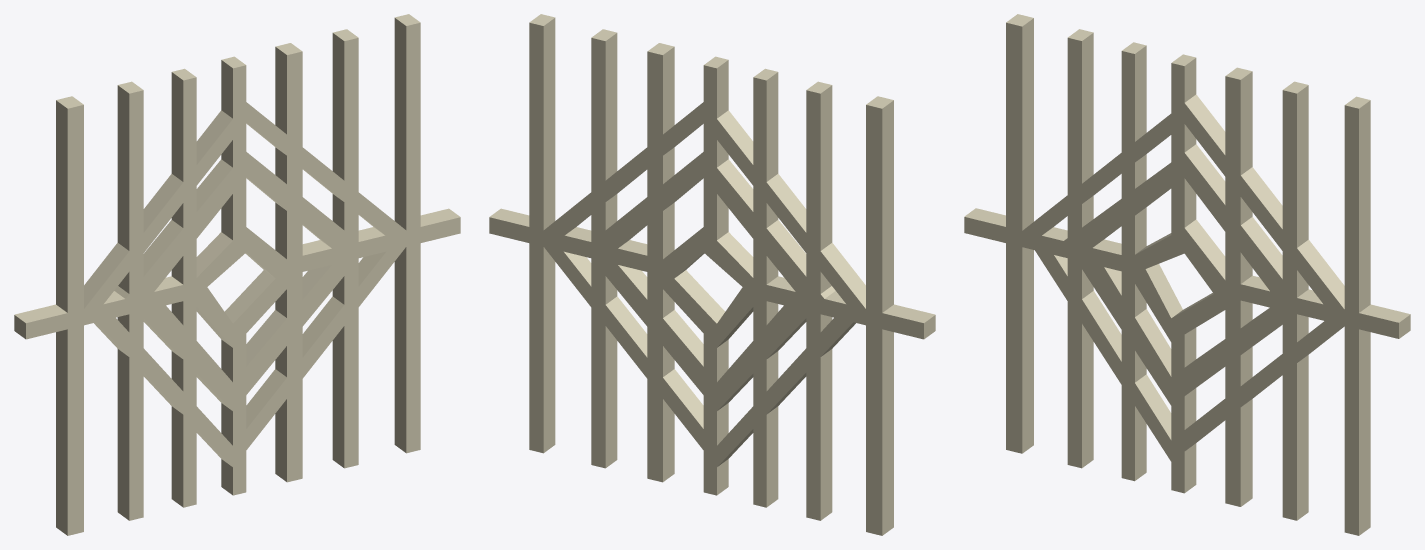
File: Diamonds.fbx
3 views of the same model, side by side, from view 1: azimuth 30°, elevation 25°; view 2: azimuth 150°, elevation 25°; view 3: azimuth 330°, elevation 25° (orthographic).
Parts seen in each view (by area): view 1: Main Diamond; view 2: Main Diamond; view 3: Main Diamond.
Boxes of the visible parts, x1=… form: Main Diamond: x1=14, y1=14, x2=460, y2=535; Main Diamond: x1=489, y1=14, x2=935, y2=535; Main Diamond: x1=964, y1=14, x2=1410, y2=535.
Bounding box in the file's own units: 156 × 147 × 7.33.
